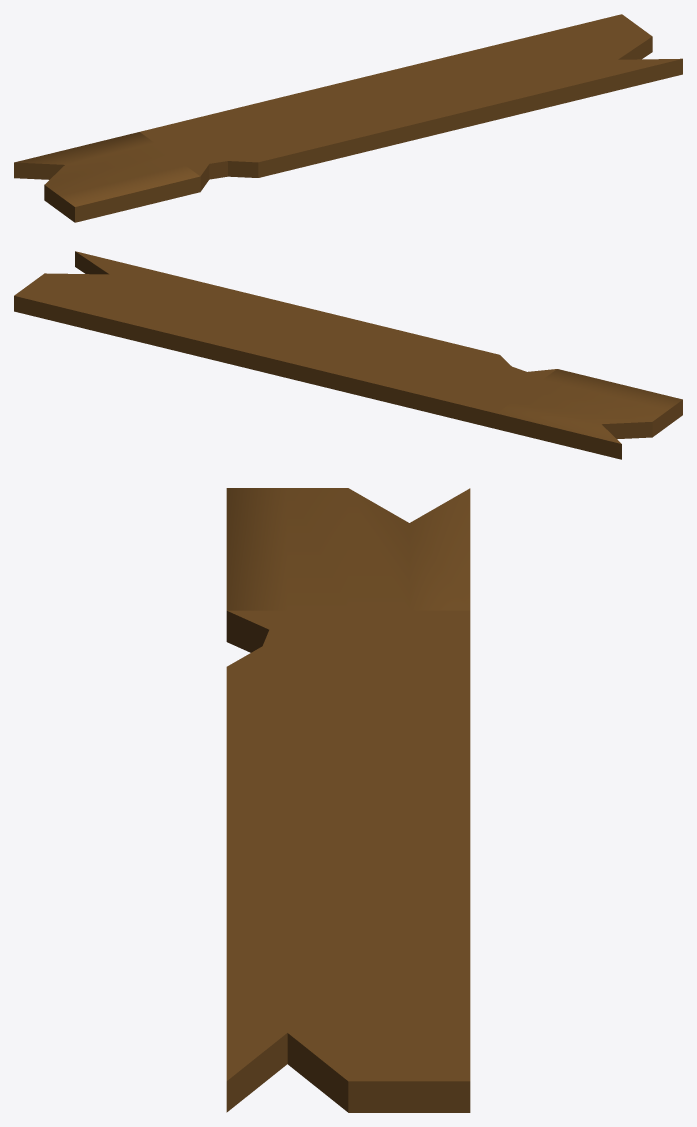
File: prop_Tabla3_Low.fbx
The picture shows the model from 3 angles, top to bottom: view 1: azimuth 30°, elevation 25°; view 2: azimuth 150°, elevation 25°; view 3: azimuth 270°, elevation 25°; orthographic projection. The views are drawn at different scales.
Parts seen in each view (by area): view 1: Tabla3_LowPoly; view 2: Tabla3_LowPoly; view 3: Tabla3_LowPoly.
Boxes of the visible parts, x1,y1,x2,y2 form: Tabla3_LowPoly: [14, 14, 682, 222]; Tabla3_LowPoly: [14, 251, 682, 459]; Tabla3_LowPoly: [226, 488, 470, 1112].
Bounding box in the file's own units: 115 × 2.85 × 20.07.
